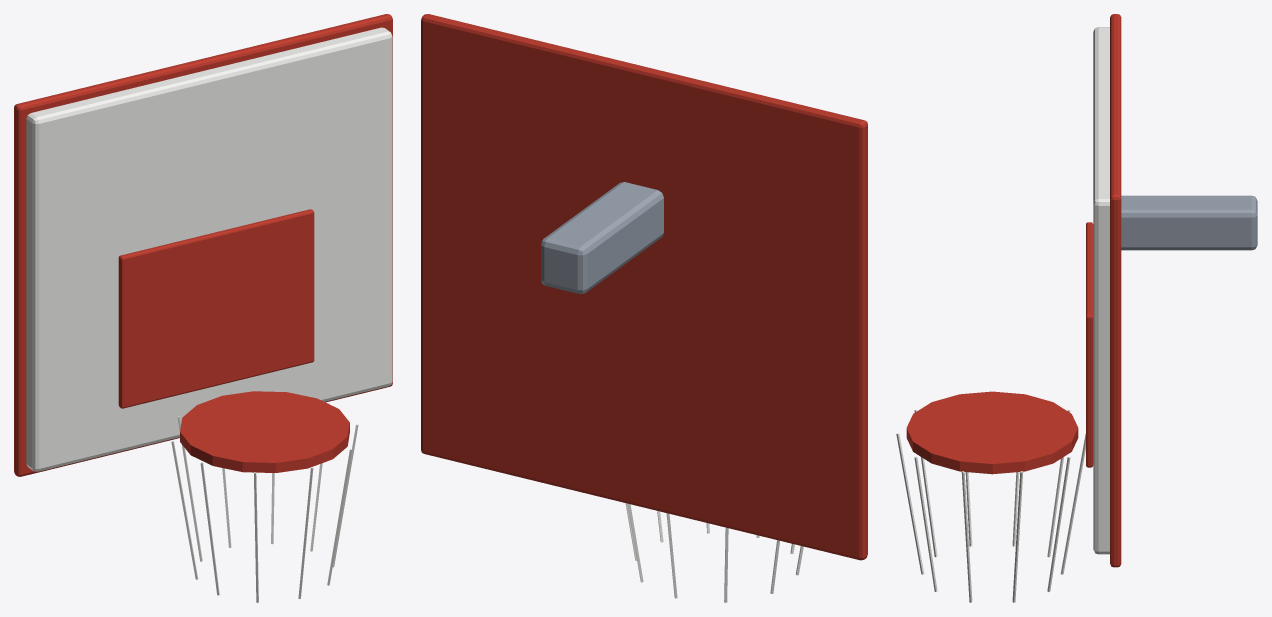
Rendered from basketball-hoop.glb.
3 views of the same model, side by side, from view 1: azimuth 30°, elevation 25°; view 2: azimuth 150°, elevation 25°; view 3: azimuth 270°, elevation 25° (orthographic). The views are drawn at different scales.
Parts seen in each view (by area): view 1: board; view 2: board; view 3: board.
Part boxes in pixels (left/top/right/bottom): board: left=14, top=14, right=392, bottom=602; board: left=421, top=14, right=867, bottom=602; board: left=896, top=14, right=1257, bottom=602.
Bounding box in the file's own units: 1.17 × 1.39 × 0.9674.
